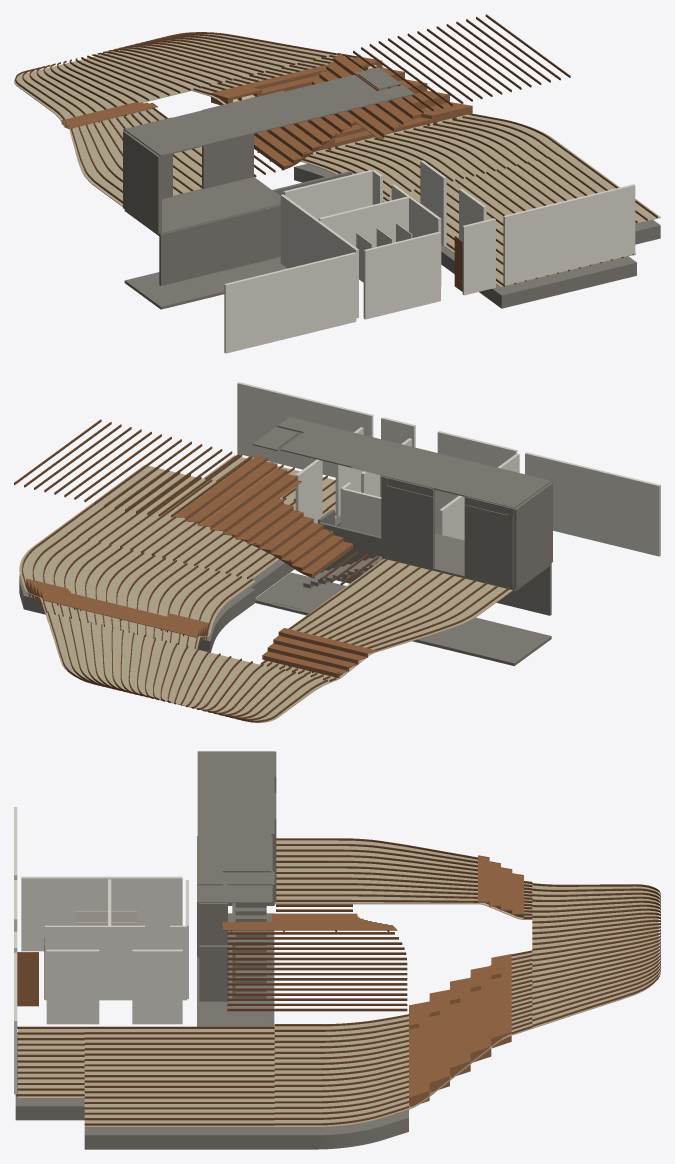
Rendered from interior.glb.
3 renders of one model, top to bottom at view 1: azimuth 30°, elevation 25°; view 2: azimuth 150°, elevation 25°; view 3: azimuth 270°, elevation 25°, orthographic. The views are drawn at different scales.
Visible parts, largest first — view 1: interior-37-6, interior-7-0, interior-24-4, interior-7-1, interior-12-2, interior-29-5, interior-45-9, interior-37-8; view 2: interior-7-0, interior-24-4, interior-37-6, interior-7-1, interior-12-2, interior-45-9, interior-29-5; view 3: interior-7-1, interior-7-0, interior-37-6, interior-24-4, interior-12-2, interior-29-5, interior-45-9, interior-37-7, interior-37-8.
Boxes of the visible parts, left/top/right/bottom form: interior-37-6: left=224, top=160, right=635, bottom=353; interior-7-0: left=14, top=34, right=660, bottom=287; interior-24-4: left=123, top=67, right=414, bottom=285; interior-7-1: left=15, top=14, right=657, bottom=286; interior-12-2: left=61, top=54, right=472, bottom=170; interior-29-5: left=294, top=163, right=660, bottom=308; interior-45-9: left=124, top=257, right=287, bottom=309; interior-37-8: left=356, top=223, right=412, bottom=282; interior-7-0: left=19, top=455, right=512, bottom=722; interior-24-4: left=252, top=417, right=552, bottom=615; interior-37-6: left=237, top=382, right=660, bottom=556; interior-7-1: left=14, top=419, right=509, bottom=722; interior-12-2: left=26, top=455, right=376, bottom=678; interior-45-9: left=255, top=572, right=551, bottom=666; interior-29-5: left=19, top=515, right=340, bottom=652; interior-7-1: left=15, top=838, right=660, bottom=1125; interior-7-0: left=18, top=840, right=658, bottom=1127; interior-37-6: left=14, top=807, right=188, bottom=1094; interior-24-4: left=197, top=751, right=276, bottom=1001; interior-12-2: left=222, top=855, right=523, bottom=1107; interior-29-5: left=15, top=1035, right=408, bottom=1149; interior-45-9: left=197, top=913, right=274, bottom=1026; interior-37-7: left=17, top=937, right=44, bottom=1006; interior-37-8: left=75, top=911, right=137, bottom=925.
Size of the model in its own units: 20.06 by 6.3 by 22.43.
